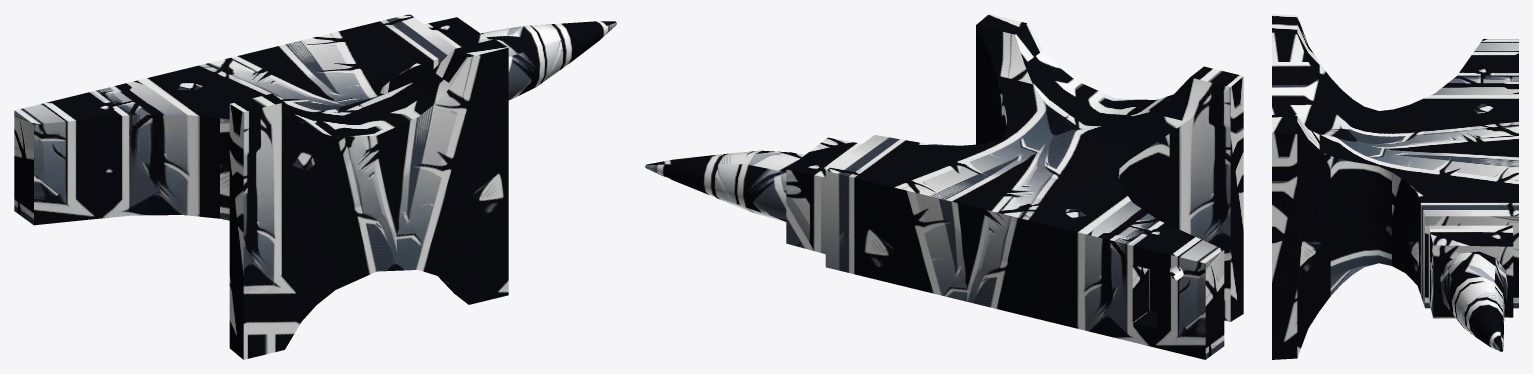
The model's file is anvil_low.obj.
The picture shows the model from 3 angles, left to right: view 1: azimuth 30°, elevation 25°; view 2: azimuth 150°, elevation 25°; view 3: azimuth 270°, elevation 25°; orthographic projection. The views are drawn at different scales.
Visible parts, largest first — view 1: anvil_low; view 2: anvil_low; view 3: anvil_low.
Boxes of the visible parts, <box> form: anvil_low: <box>14,14,616,359</box>; anvil_low: <box>645,14,1243,359</box>; anvil_low: <box>1272,14,1518,359</box>.
Size of the model in its own units: 5.31 by 2.12 by 2.09.
